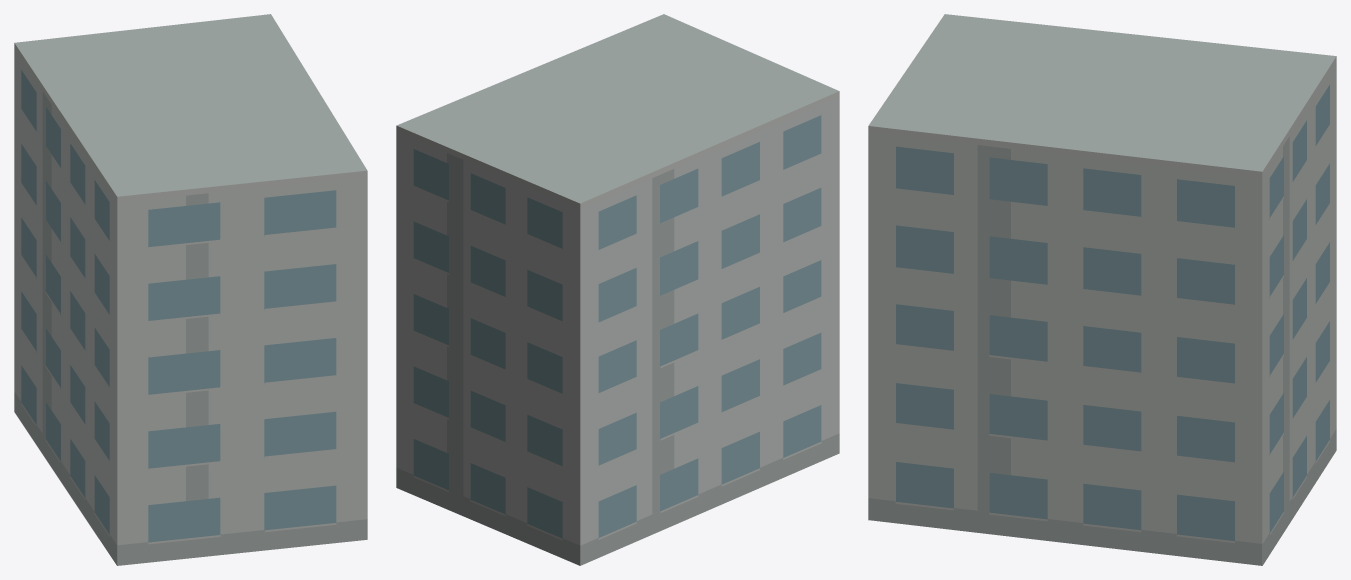
File: survey-upis-32828592.glb
3 views of the same model, side by side, from view 1: azimuth 30°, elevation 25°; view 2: azimuth 150°, elevation 25°; view 3: azimuth 270°, elevation 25° (orthographic). The views are drawn at different scales.
Parts seen in each view (by area): view 1: survey-upis-32828592.tmp; view 2: survey-upis-32828592.tmp; view 3: survey-upis-32828592.tmp.
Part boxes in pixels (bbox=[...]): survey-upis-32828592.tmp: bbox=[14, 14, 367, 565]; survey-upis-32828592.tmp: bbox=[396, 14, 839, 565]; survey-upis-32828592.tmp: bbox=[868, 14, 1336, 565].
Size of the model in its own units: 12.97 by 15.1 by 16.27.
